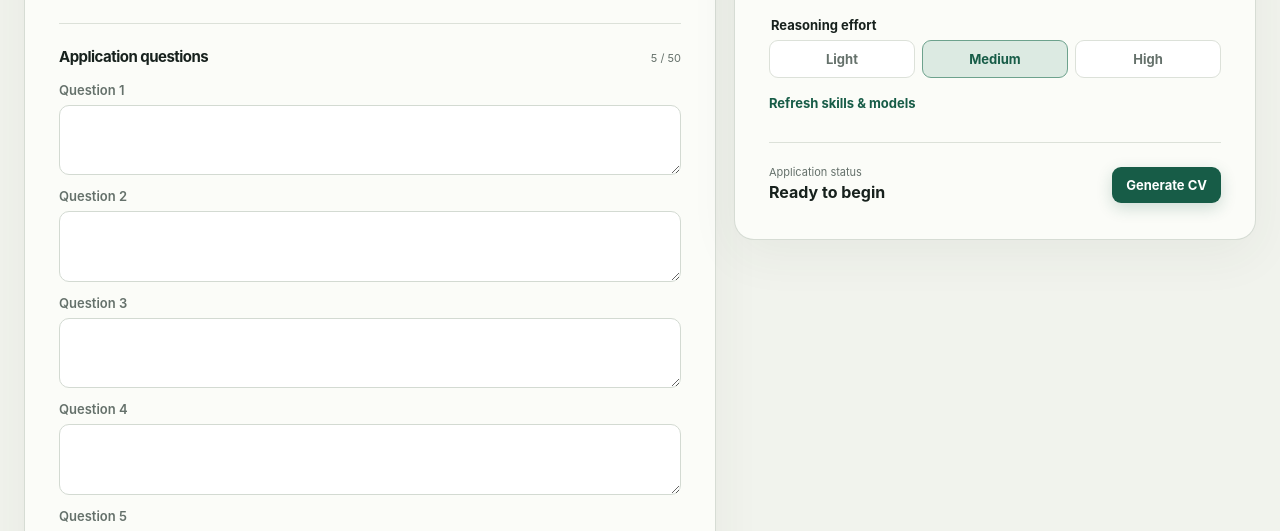
Test: cancels the primary skill modal without generating
The image size is (1280, 531).
(page scrolled)
Click the button "Generate CV" at coordinates (1167, 185), box [1112,167,1221,203]
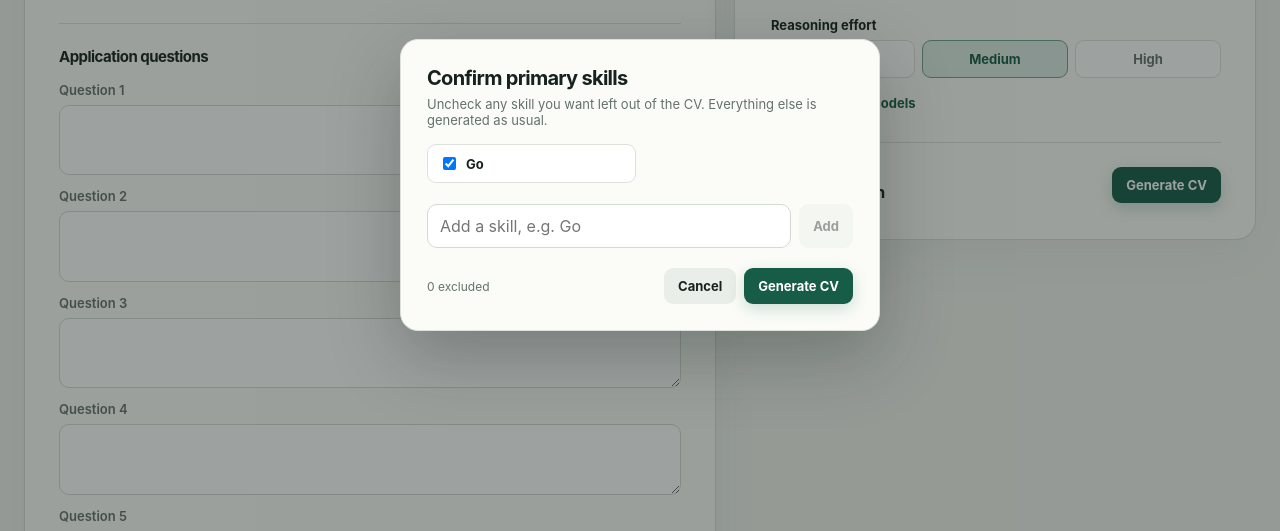
Expected: the checkbox labelled "Go" is shown, [443,157,456,170]
Press Escape
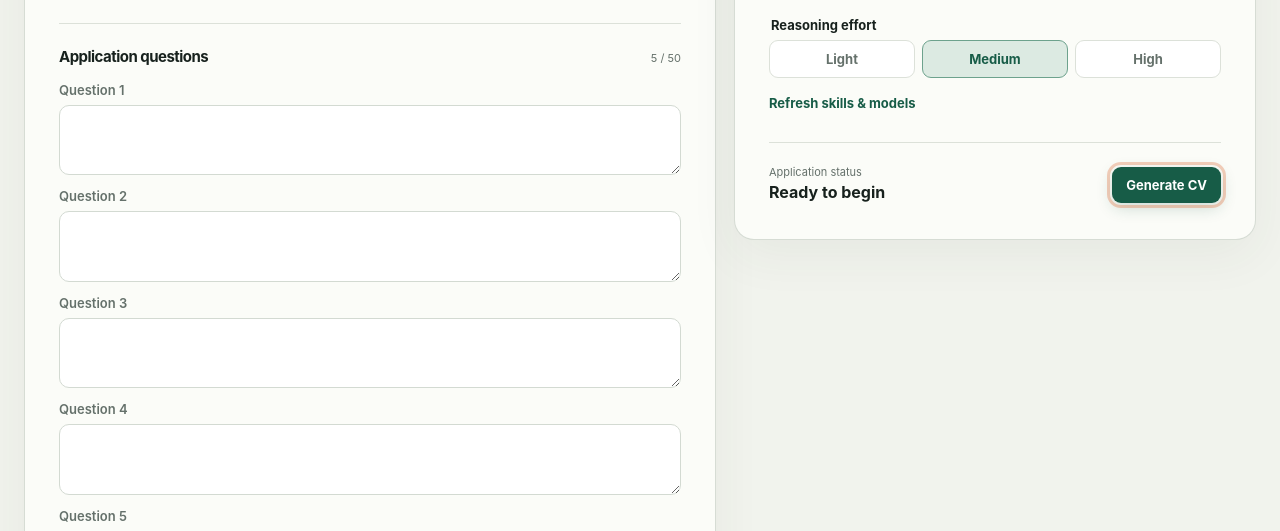
Expected: the dialog is gone
